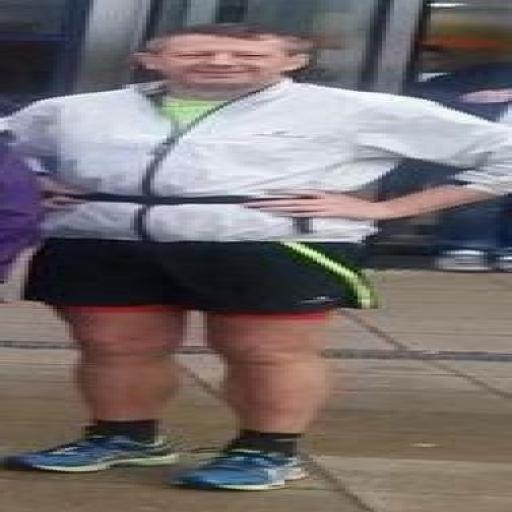person: (5, 25, 511, 490), (0, 132, 40, 282), (435, 196, 511, 271)
